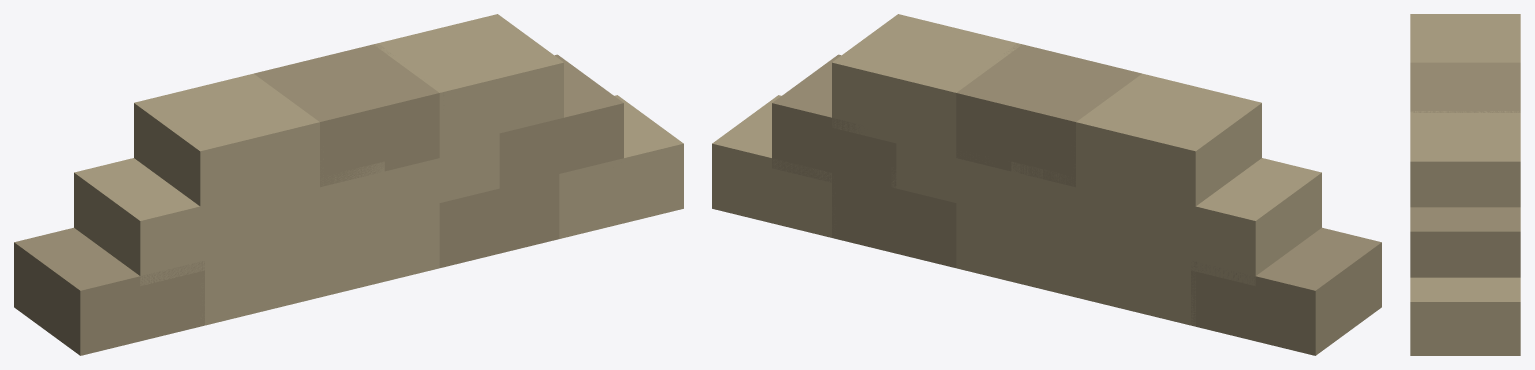
The model's file is sandbags.glb.
3 renders of one model, left to right at view 1: azimuth 30°, elevation 25°; view 2: azimuth 150°, elevation 25°; view 3: azimuth 270°, elevation 25°, orthographic. The views are drawn at different scales.
Parts seen in each view (by area): view 1: Sandbags, accent_Sandbags; view 2: Sandbags, accent_Sandbags; view 3: Sandbags, accent_Sandbags.
Boxes of the visible parts, x1=… form: Sandbags: x1=74, y1=14, x2=683, y2=325; accent_Sandbags: x1=14, y1=43, x2=623, y2=355; Sandbags: x1=712, y1=14, x2=1321, y2=326; accent_Sandbags: x1=772, y1=43, x2=1381, y2=355; Sandbags: x1=1410, y1=14, x2=1520, y2=355; accent_Sandbags: x1=1410, y1=62, x2=1520, y2=277.
Bounding box in the file's own units: 1.26 × 0.35 × 0.24.
